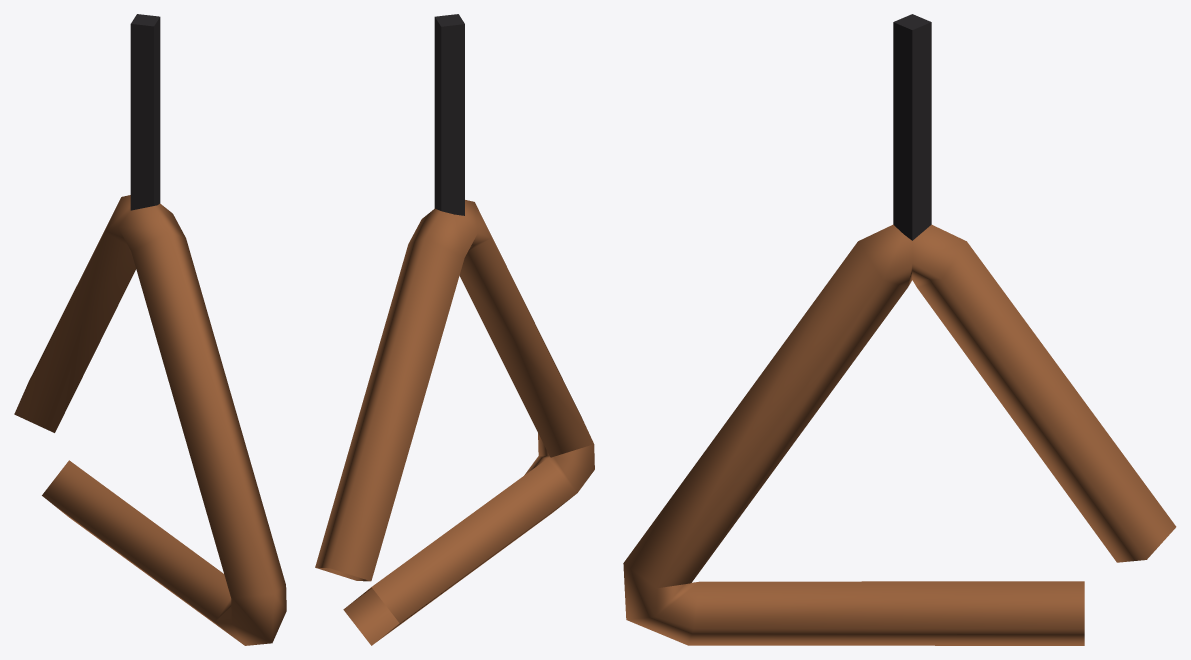
File: Triangle.fbx
The picture shows the model from 3 angles, left to right: view 1: azimuth 30°, elevation 25°; view 2: azimuth 150°, elevation 25°; view 3: azimuth 270°, elevation 25°; orthographic projection. The views are drawn at different scales.
Parts seen in each view (by area): view 1: Triangle; view 2: Triangle; view 3: Triangle.
Part boxes in pixels (left/top/right/bottom): Triangle: left=14, top=14, right=286, bottom=645; Triangle: left=315, top=14, right=594, bottom=645; Triangle: left=623, top=14, right=1176, bottom=645.
Size of the model in its own units: 0.0357 by 0.3436 by 0.2761.
